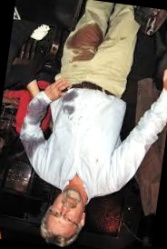wine: (65, 19, 104, 68), (59, 88, 86, 109), (26, 100, 44, 128), (24, 136, 45, 158), (58, 102, 81, 120)
